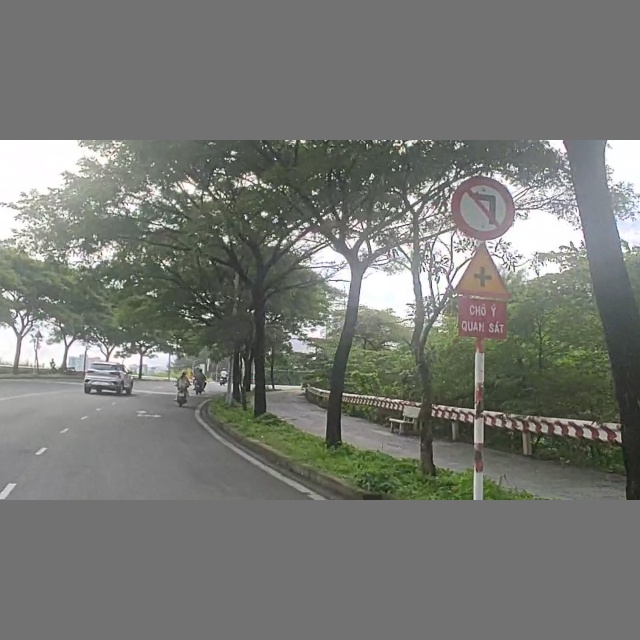P.123a: (449, 173, 526, 240)
W.205a: (445, 242, 528, 300)
